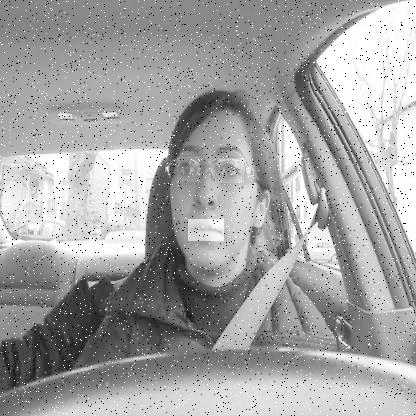seatbelt: (132, 70, 310, 349)
